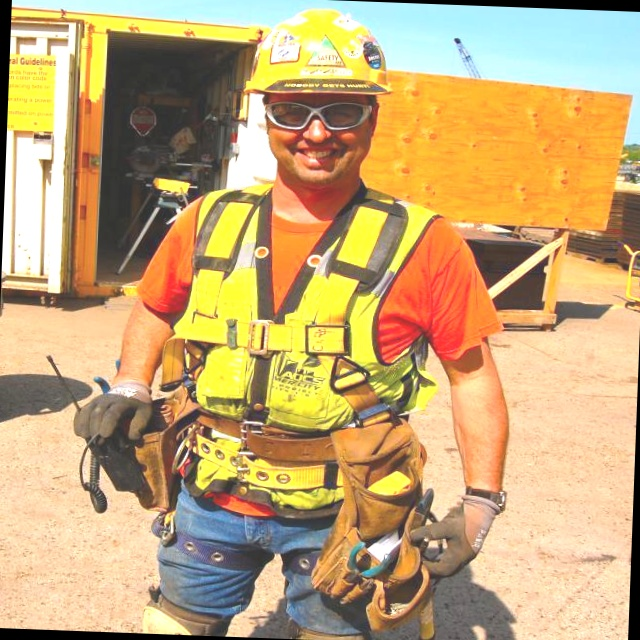gloves: (83, 355, 218, 500), (431, 466, 537, 594)
helmet: (225, 5, 394, 107)
vest: (165, 166, 456, 524)
